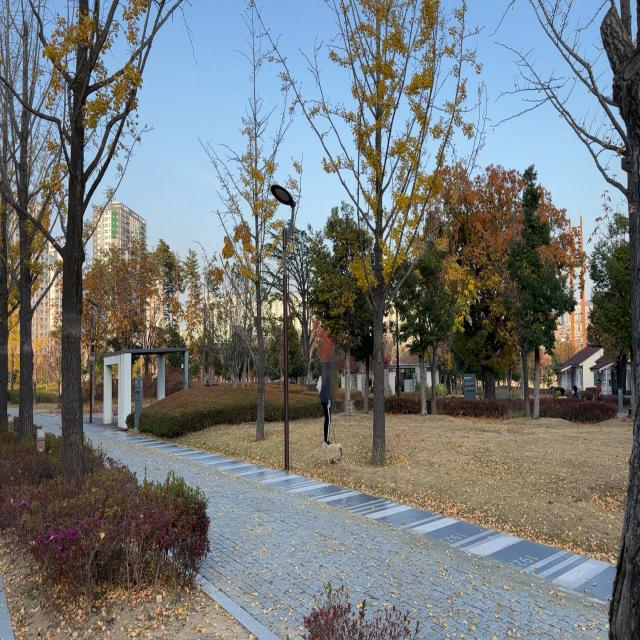Leashed_Dog: (322, 396, 344, 464)
